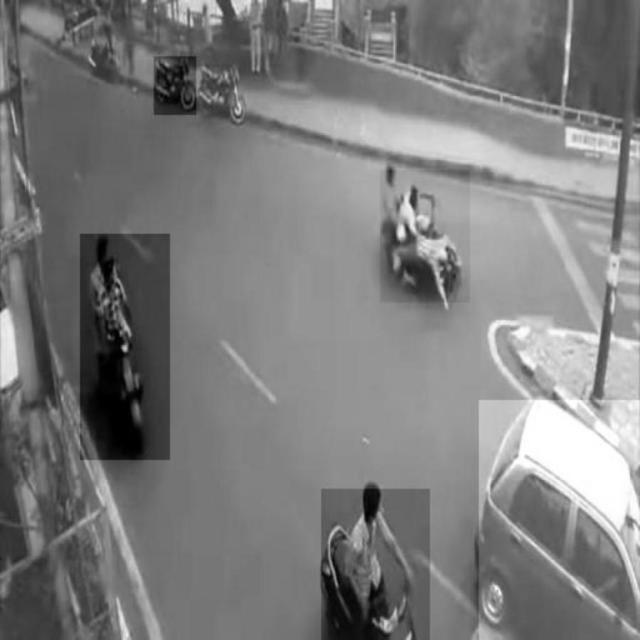accident: (380, 170, 471, 302)
vehicle: (479, 400, 639, 640), (80, 234, 171, 460), (322, 489, 430, 640), (194, 65, 245, 127), (154, 56, 196, 114)
